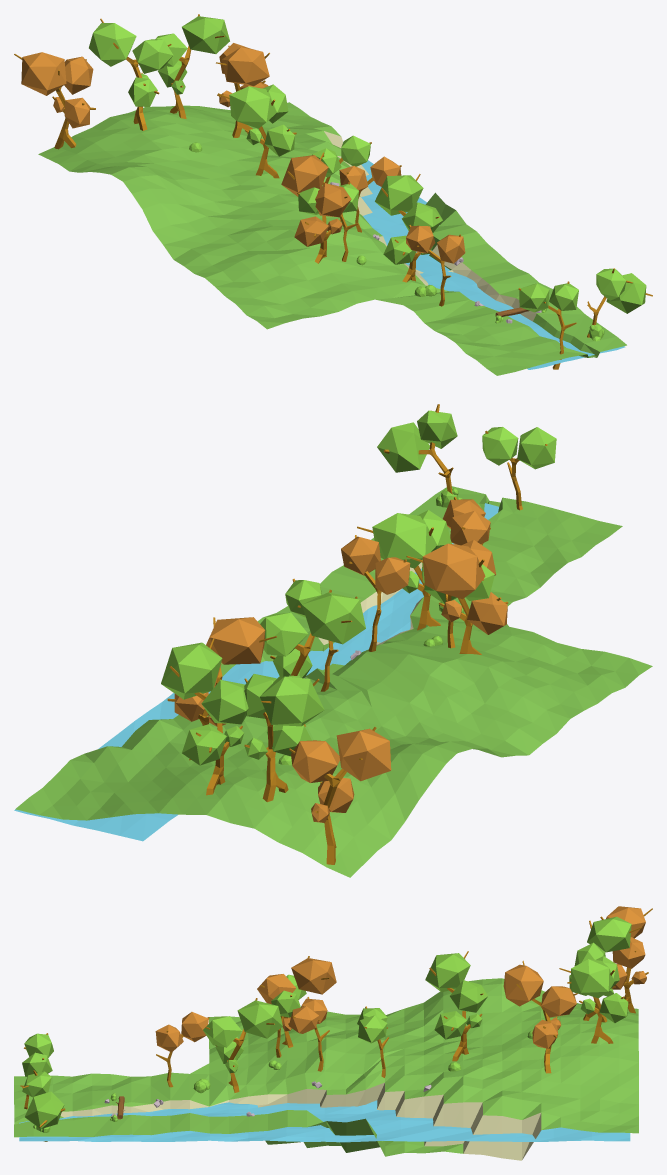
The model's file is Escenario_01_completo.fbx.
3 renders of one model, top to bottom at view 1: azimuth 30°, elevation 25°; view 2: azimuth 150°, elevation 25°; view 3: azimuth 270°, elevation 25°, orthographic. The views are drawn at different scales.
Visible parts, largest first — view 1: Escenario1Completo; view 2: Escenario1Completo; view 3: Escenario1Completo.
Part boxes in pixels (x1,y1,x2,y2): Escenario1Completo: (14, 14, 652, 375); Escenario1Completo: (14, 404, 652, 877); Escenario1Completo: (14, 906, 652, 1160).
Size of the model in its own units: 7133 by 3739 by 13091.
